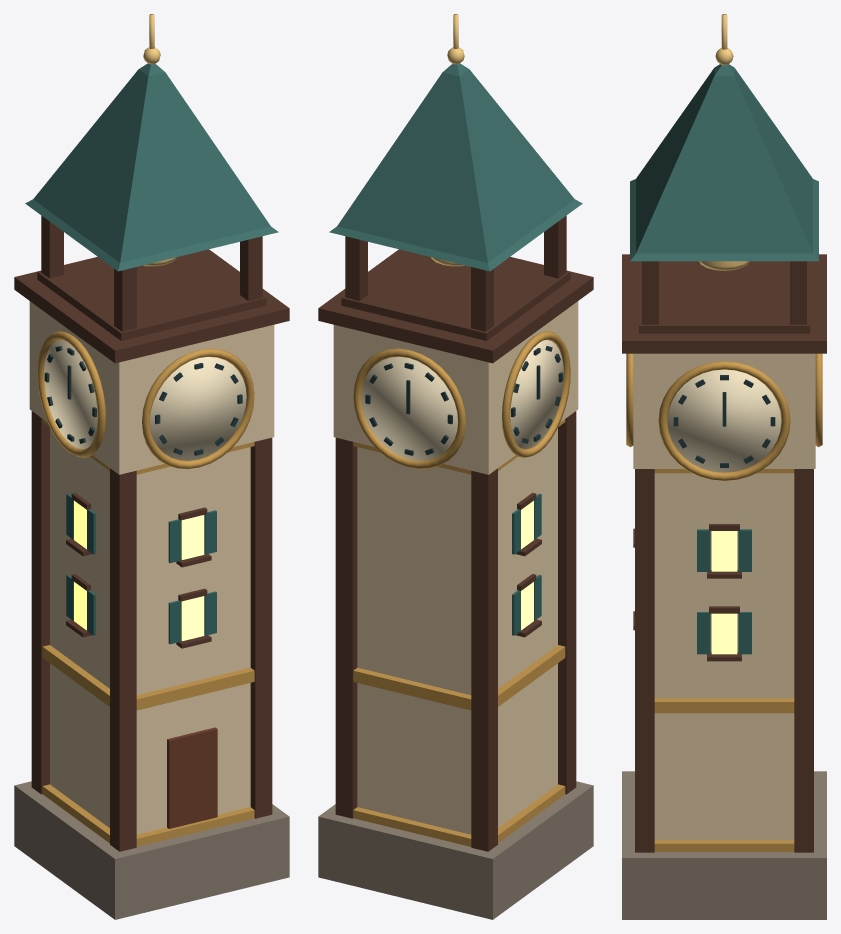
File: clock-tower.glb
3 views of the same model, side by side, from view 1: azimuth 30°, elevation 25°; view 2: azimuth 150°, elevation 25°; view 3: azimuth 270°, elevation 25° (orthographic).
Parts seen in each view (by area): view 1: clock-tower; view 2: clock-tower; view 3: clock-tower.
Part boxes in pixels (x1,y1,x2,y2): clock-tower: [14, 14, 289, 919]; clock-tower: [318, 14, 593, 919]; clock-tower: [622, 14, 826, 919].
Bounding box in the file's own units: 3.6 × 16.7 × 3.6.
